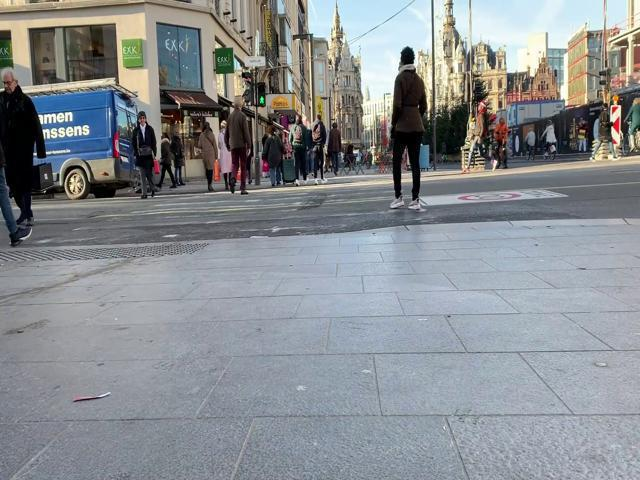shoe: (9, 226, 32, 246)
